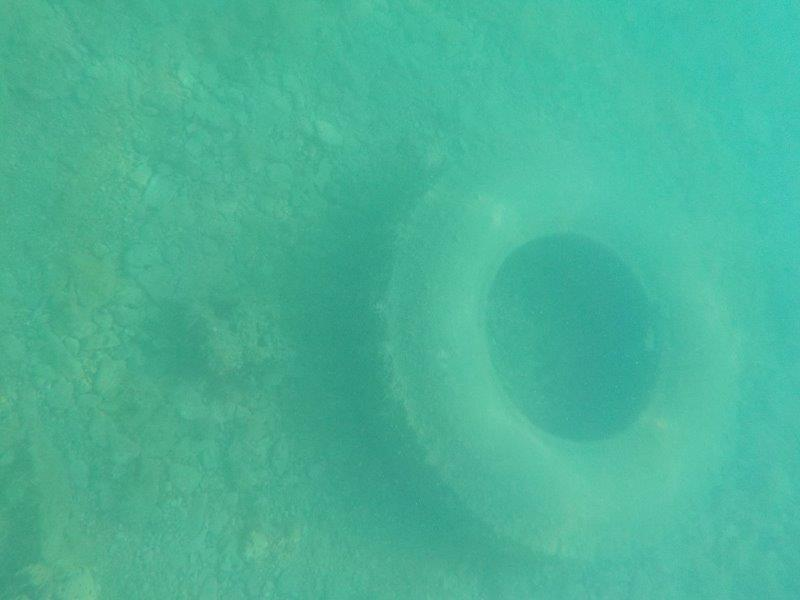tire: (340, 136, 747, 581)
